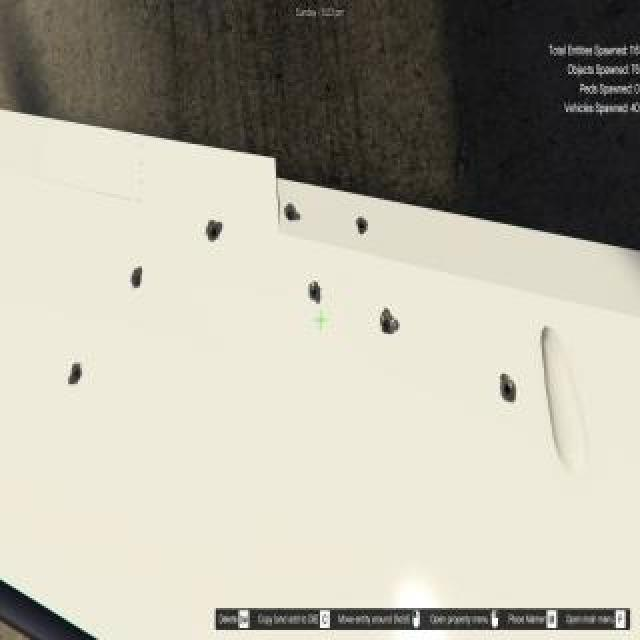crack: (377, 304, 403, 342), (497, 368, 521, 406), (126, 260, 150, 296), (65, 354, 85, 390), (204, 216, 228, 244), (282, 201, 304, 227), (307, 276, 327, 304), (354, 214, 372, 238)
